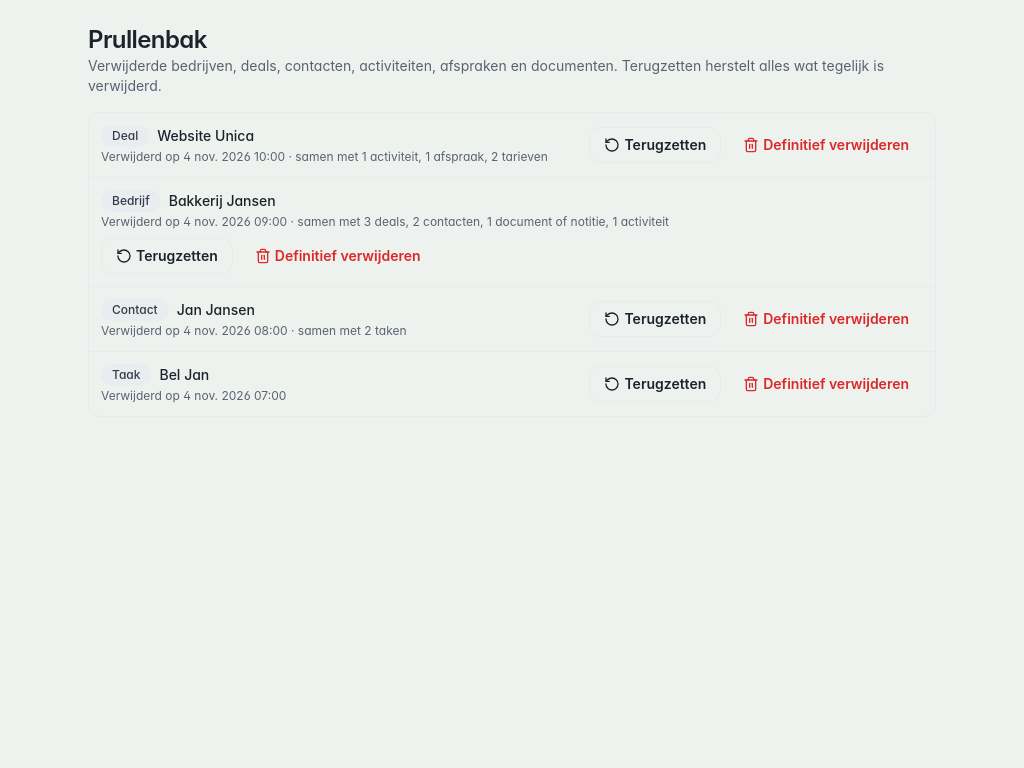
it: TrashPage › lists in the purge dialog everything a company purge removes for good
Later steps or results of the test are not shown.
Step 1. Click the button "Definitief verwijderen" below "4 nov. 2026 09:00" → (338, 256), box [241, 238, 435, 274]
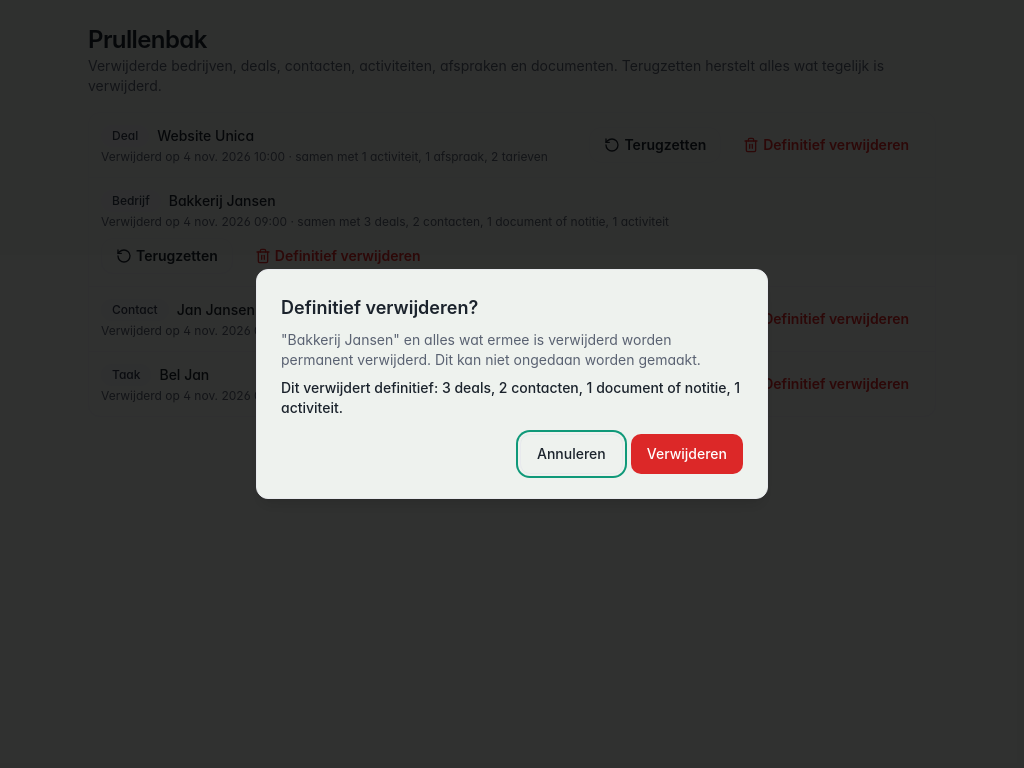
Now the text "Dit verwijdert definitief: 3 deals, 2 contacten, 1 document of notitie, 1 activiteit" is shown, box [281, 378, 743, 418]
